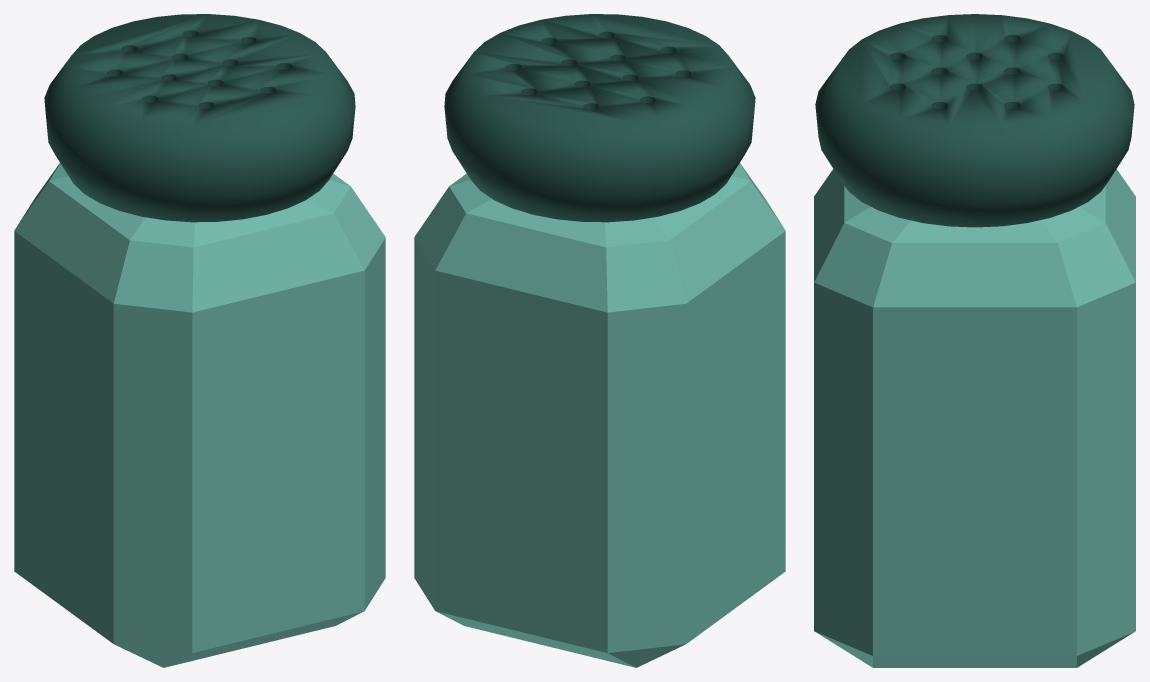
The model's file is salt.glb.
The picture shows the model from 3 angles, left to right: view 1: azimuth 30°, elevation 25°; view 2: azimuth 150°, elevation 25°; view 3: azimuth 270°, elevation 25°; orthographic projection. The views are drawn at different scales.
Visible parts, largest first — view 1: Cube; view 2: Cube; view 3: Cube.
Boxes of the visible parts, x1,y1,x2,y2 form: Cube: (14,14,385,667); Cube: (414,14,785,667); Cube: (814,14,1135,667).
Size of the model in its own units: 2 by 3.8 by 2.
